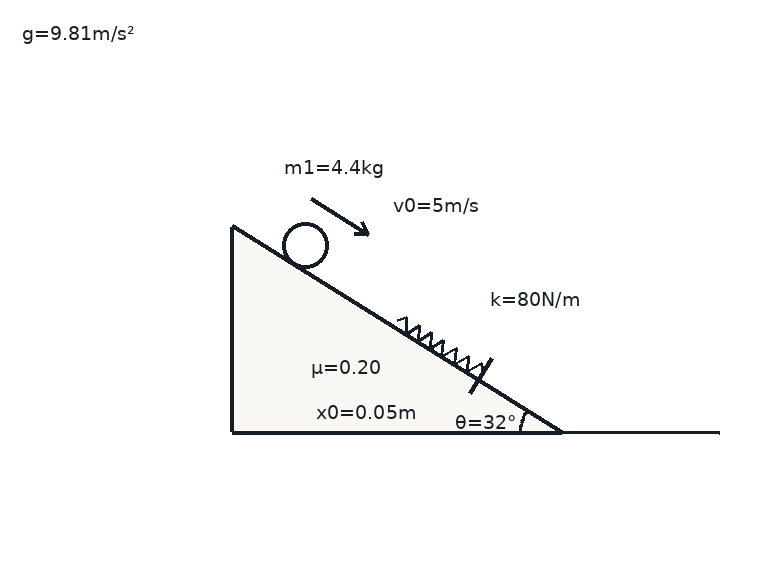ball: (280, 220, 330, 270)
ramp: (230, 225, 562, 434)
spring: (395, 316, 485, 375)
